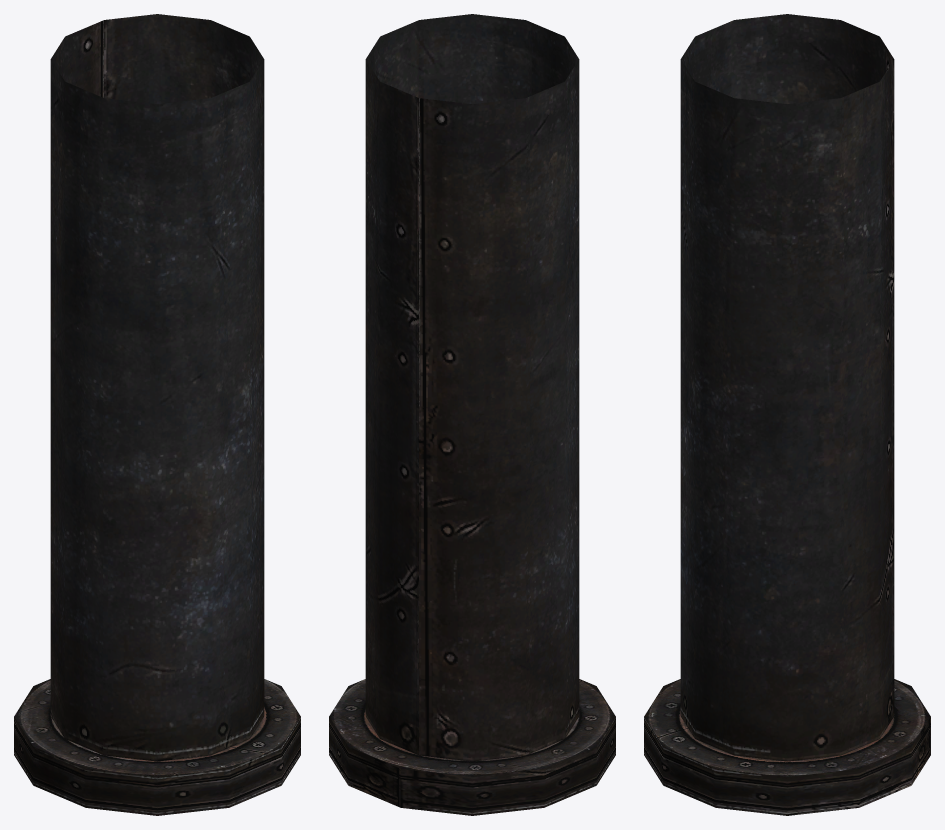
The model's file is tesla_props_pipes_02_sm.dae.
3 renders of one model, left to right at view 1: azimuth 30°, elevation 25°; view 2: azimuth 150°, elevation 25°; view 3: azimuth 270°, elevation 25°, orthographic.
Parts seen in each view (by area): view 1: polySurface395; view 2: polySurface395; view 3: polySurface395.
Boxes of the visible parts, x1,y1,x2,y2 form: polySurface395: (14,14,300,815); polySurface395: (329,14,615,815); polySurface395: (644,14,930,815).
Bounding box in the file's own units: 0.6718 × 1.8 × 0.6718.
